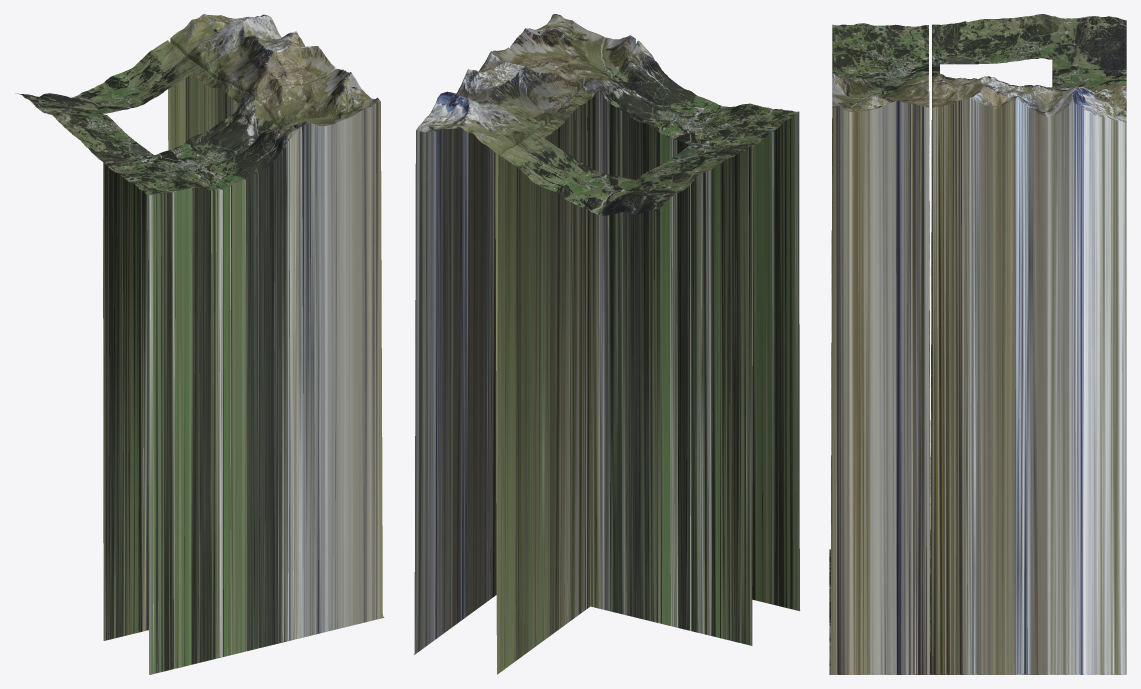
The model's file is panorama.glb.
3 renders of one model, left to right at view 1: azimuth 30°, elevation 25°; view 2: azimuth 150°, elevation 25°; view 3: azimuth 270°, elevation 25°, orthographic. The views are drawn at different scales.
Parts seen in each view (by area): view 1: Real mountain panorama / 32 m resampling; view 2: Real mountain panorama / 32 m resampling; view 3: Real mountain panorama / 32 m resampling.
Boxes of the visible parts, x1,y1,x2,y2 form: Real mountain panorama / 32 m resampling: (15, 14, 384, 674); Real mountain panorama / 32 m resampling: (413, 14, 800, 674); Real mountain panorama / 32 m resampling: (829, 14, 1126, 674).
Size of the model in its own units: 6016 by 12887 by 6016.
1 material, 1 textured.
